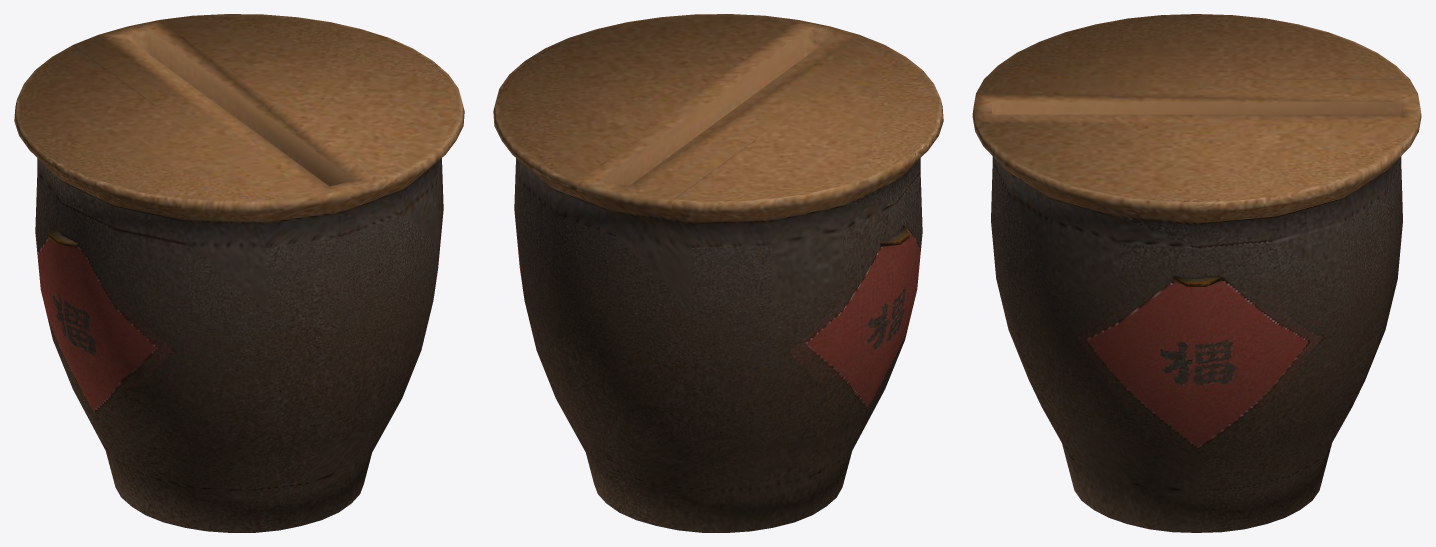
Rendered from vat_M.fbx.
3 renders of one model, left to right at view 1: azimuth 30°, elevation 25°; view 2: azimuth 150°, elevation 25°; view 3: azimuth 270°, elevation 25°, orthographic.
Visible parts, largest first — view 1: tripo_node_01ebb650; view 2: tripo_node_01ebb650; view 3: tripo_node_01ebb650.
Boxes of the visible parts, box(x1,y1,x2,y2) form: tripo_node_01ebb650: box(14, 14, 464, 532); tripo_node_01ebb650: box(493, 14, 943, 532); tripo_node_01ebb650: box(972, 14, 1421, 532).
Bounding box in the file's own units: 99.8 × 99.8 × 91.21.
1 material, 1 textured.
